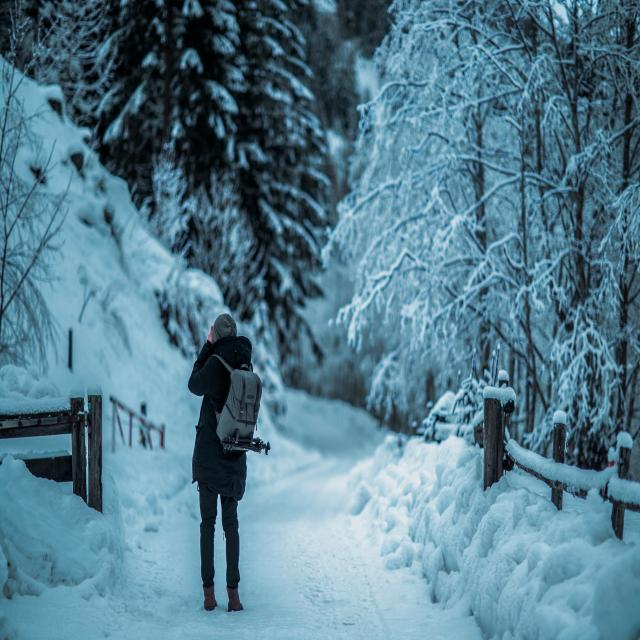adult: (186, 312, 252, 614)
